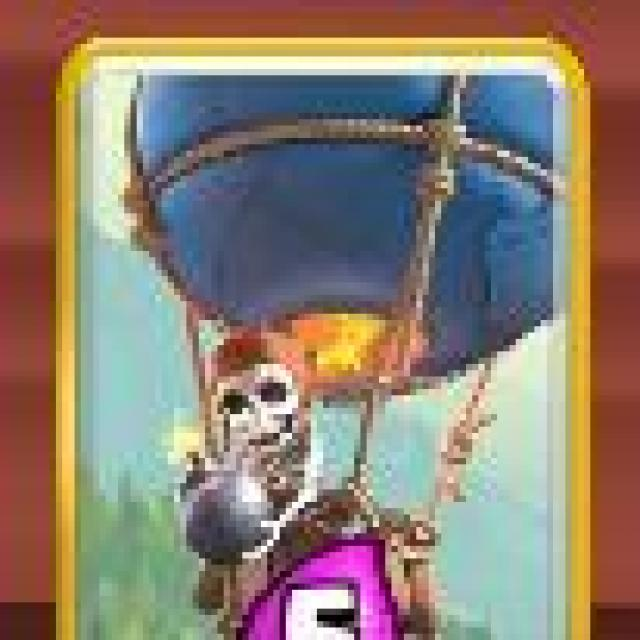Balloon: (54, 35, 597, 640)
